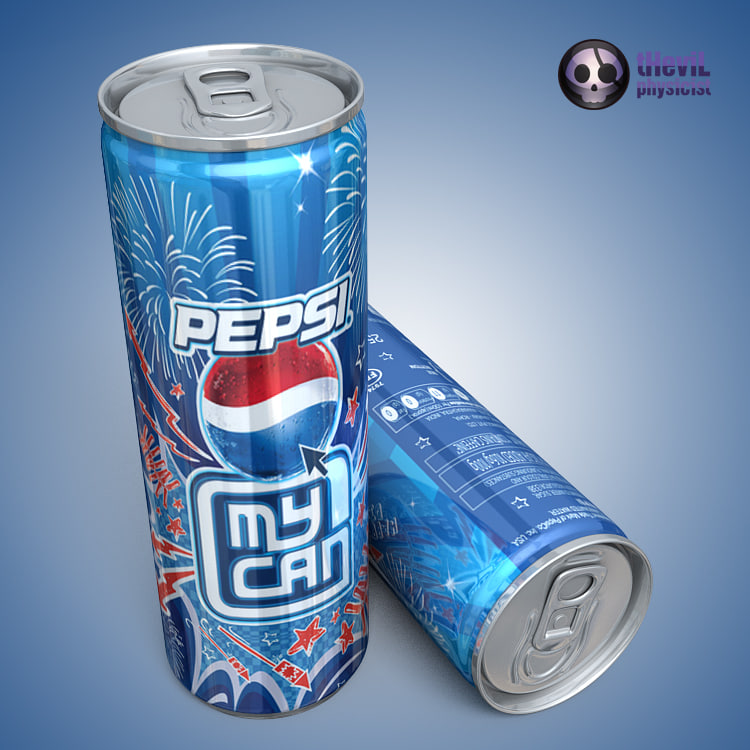can: (92, 35, 398, 726), (376, 301, 667, 723)
